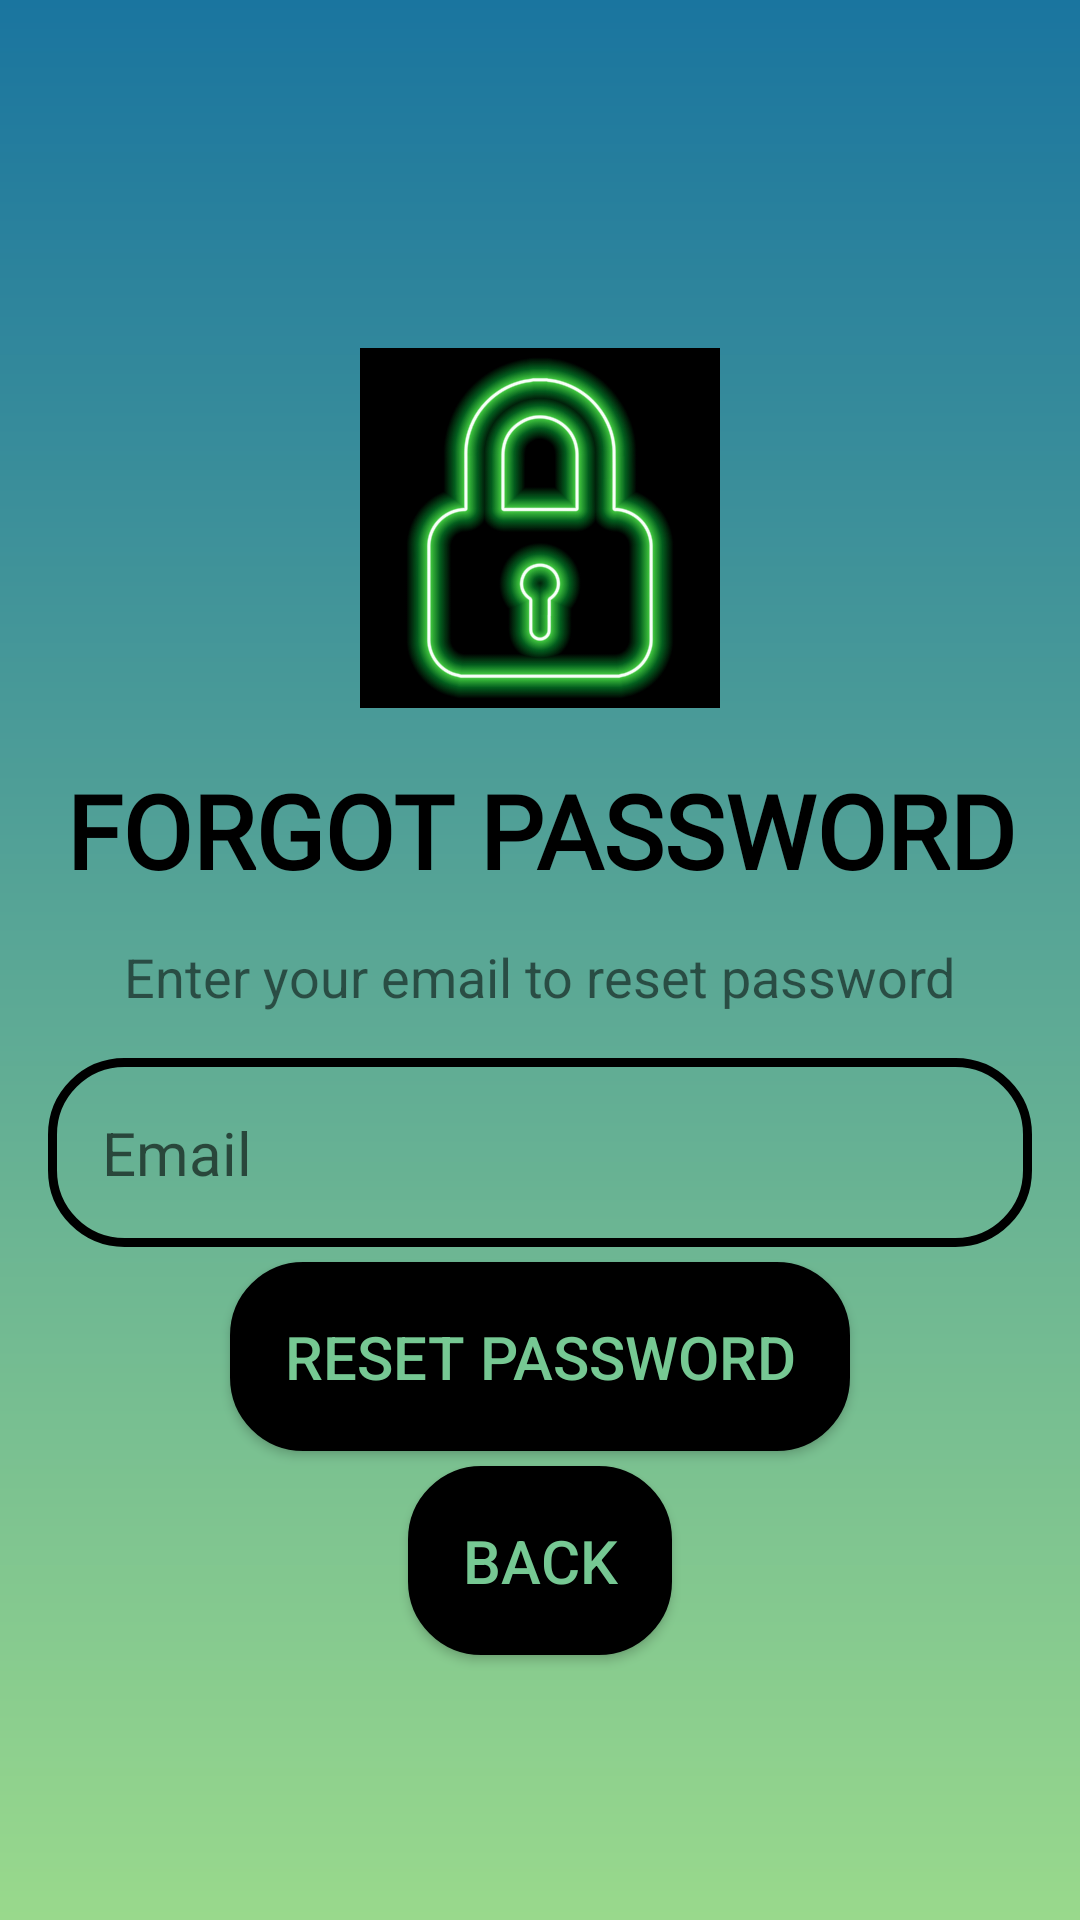

Where icons sit on this 1080 x 1920 app screen, as [x1, y1, x2, y2]:
lock: [360, 348, 720, 708]
